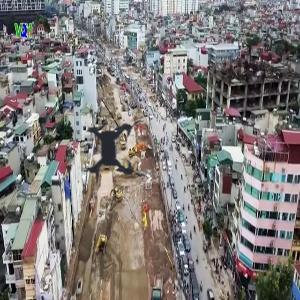drone: (50, 84, 182, 216)
